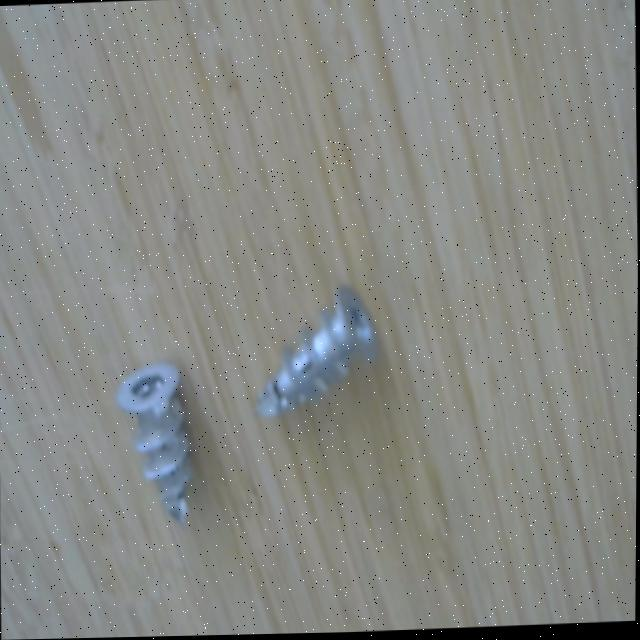Short screw: (250, 277, 388, 439), (110, 350, 204, 534)
